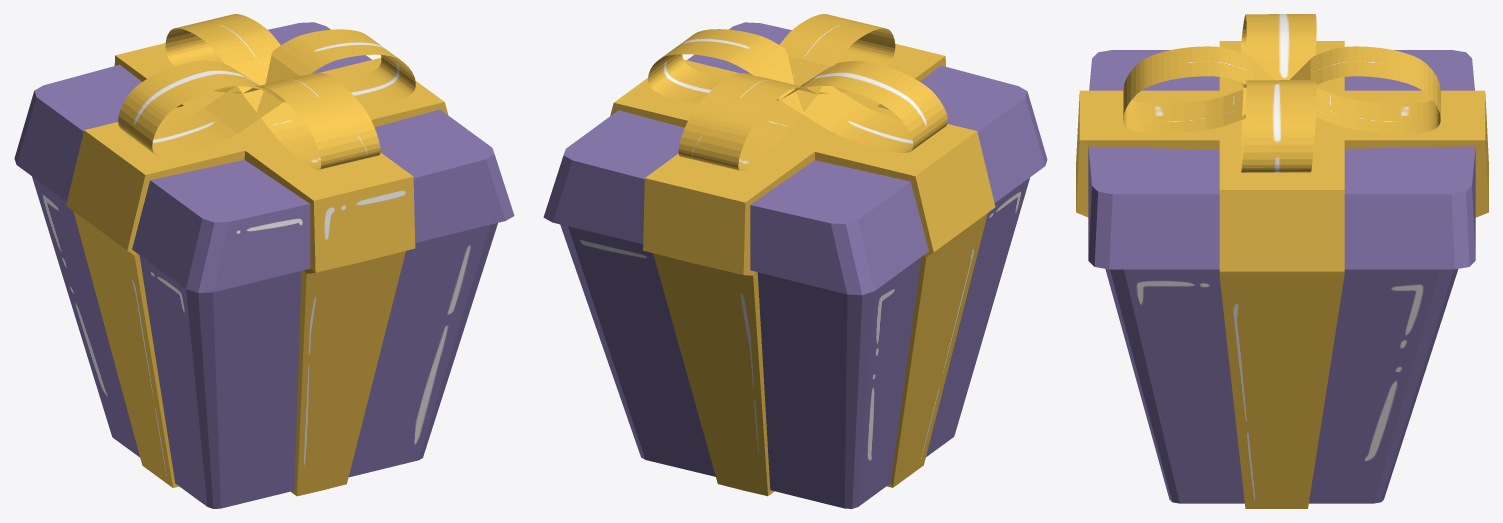
The model's file is Gift_4.glb.
3 renders of one model, left to right at view 1: azimuth 30°, elevation 25°; view 2: azimuth 150°, elevation 25°; view 3: azimuth 270°, elevation 25°, orthographic. The views are drawn at different scales.
Visible parts, largest first — view 1: XmasGifts_03; view 2: XmasGifts_03; view 3: XmasGifts_03.
Part boxes in pixels (<box>): XmasGifts_03: <box>14,14,514,508</box>; XmasGifts_03: <box>543,14,1047,508</box>; XmasGifts_03: <box>1076,14,1488,508</box>.
Size of the model in its own units: 1.86 by 2.05 by 1.94.
Materials: 2 (2 with a texture image).
